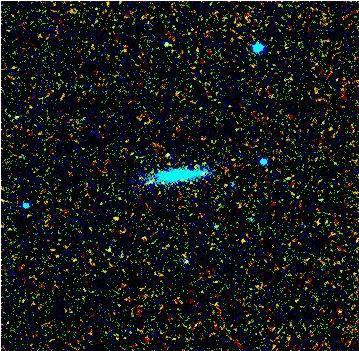star: (102, 203, 132, 233)
